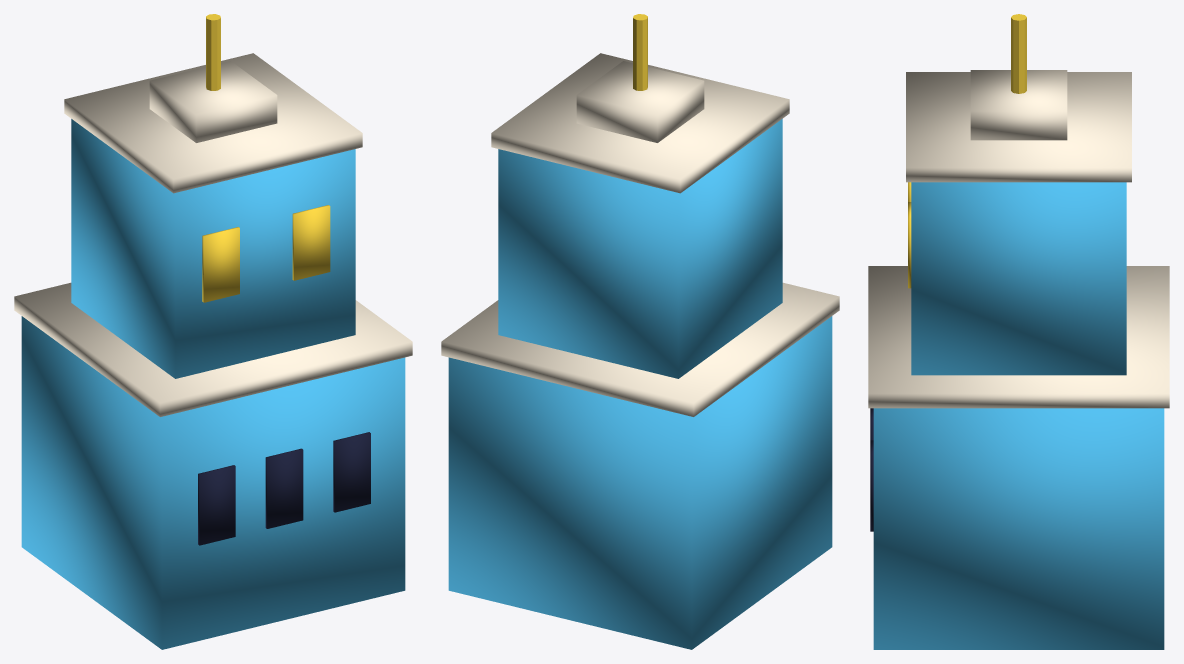
File: building_b.glb
The picture shows the model from 3 angles, left to right: view 1: azimuth 30°, elevation 25°; view 2: azimuth 150°, elevation 25°; view 3: azimuth 270°, elevation 25°; orthographic projection. The views are drawn at different scales.
Parts seen in each view (by area): view 1: building_b; view 2: building_b; view 3: building_b.
Boxes of the visible parts, x1,y1,x2,y2 form: building_b: (14,14,412,649); building_b: (441,14,839,649); building_b: (868,14,1169,649).
Size of the model in its own units: 5.6 by 11.7 by 5.6.
